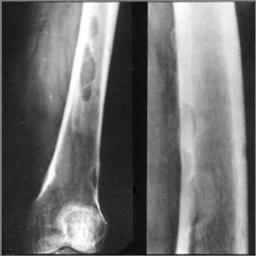cancer: (80, 14, 100, 99)
